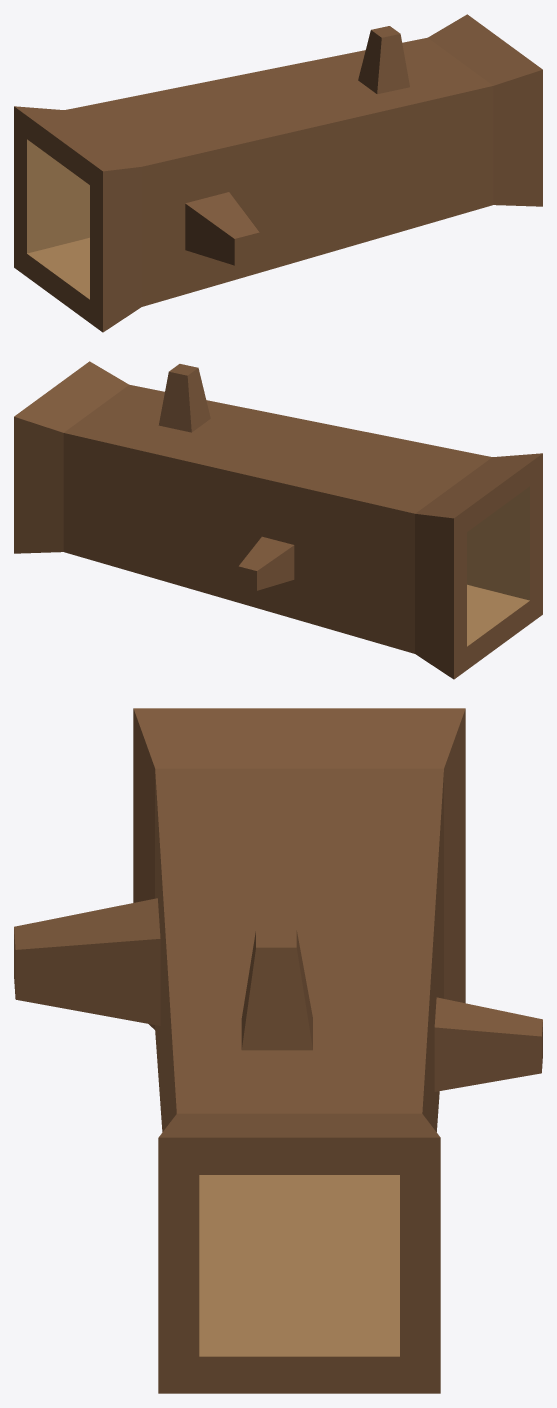
The model's file is fallen-log.glb.
3 views of the same model, one above another, from view 1: azimuth 30°, elevation 25°; view 2: azimuth 150°, elevation 25°; view 3: azimuth 270°, elevation 25° (orthographic). The views are drawn at different scales.
Visible parts, largest first — view 1: fallen-log; view 2: fallen-log; view 3: fallen-log.
Boxes of the visible parts, left/top/right/bottom form: fallen-log: left=14, top=14, right=542, bottom=332; fallen-log: left=14, top=361, right=542, bottom=679; fallen-log: left=14, top=708, right=542, bottom=1393.
Size of the model in its own units: 1.73 by 0.72 by 0.9491.
